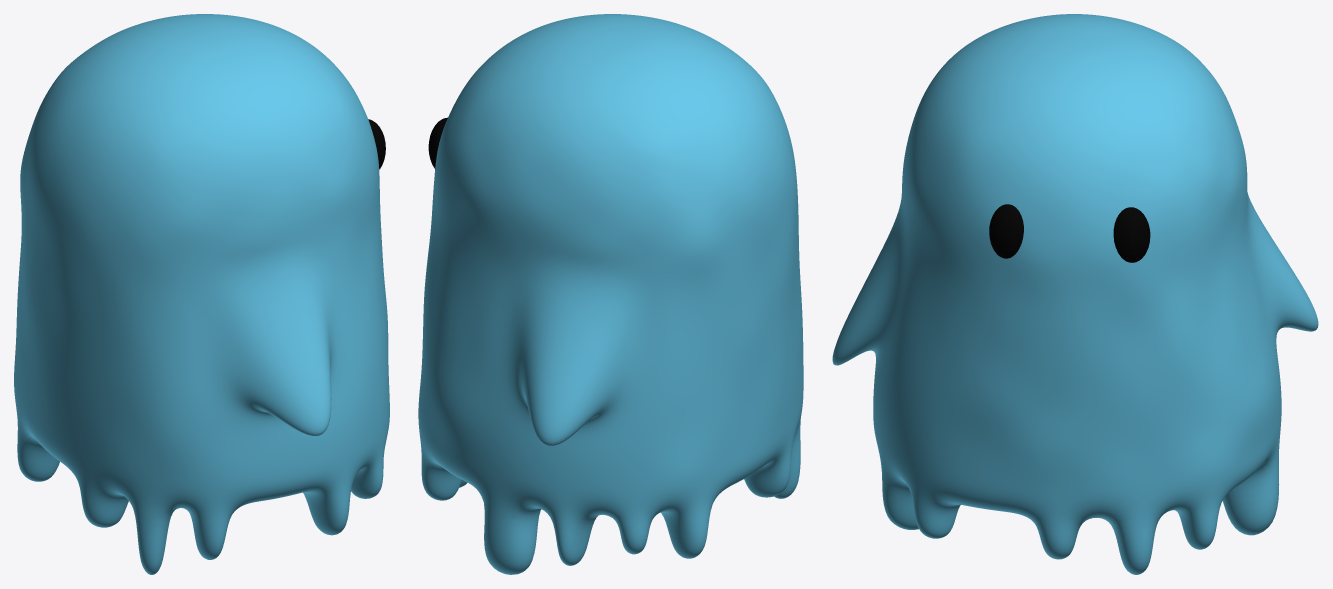
File: basic ghost.fbx
3 renders of one model, left to right at view 1: azimuth 30°, elevation 25°; view 2: azimuth 150°, elevation 25°; view 3: azimuth 270°, elevation 25°, orthographic. The views are drawn at different scales.
Parts seen in each view (by area): view 1: Cube; view 2: Cube; view 3: Cube, Sphere.001, Sphere.
Part boxes in pixels (<box>): Cube: <box>14,14,389,574</box>; Cube: <box>418,14,803,574</box>; Cube: <box>832,14,1318,574</box>; Sphere.001: <box>1113,207,1150,262</box>; Sphere: <box>989,204,1023,258</box>.
Size of the model in its own units: 168 by 242 by 219.
